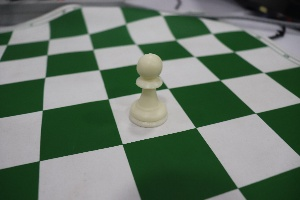white_pawn: (120, 42, 175, 135)
